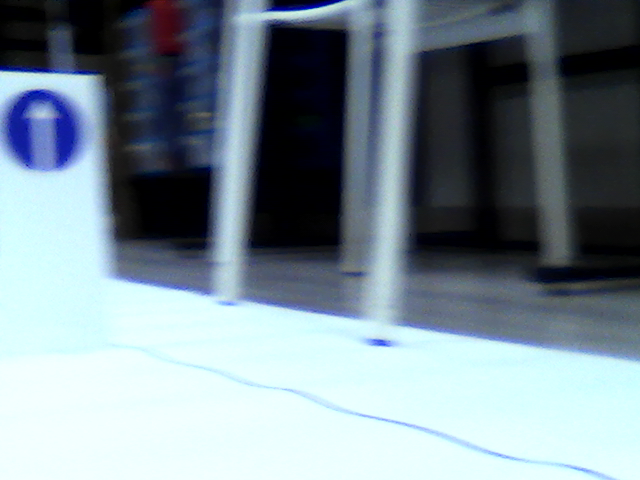forw: (3, 84, 83, 177)
